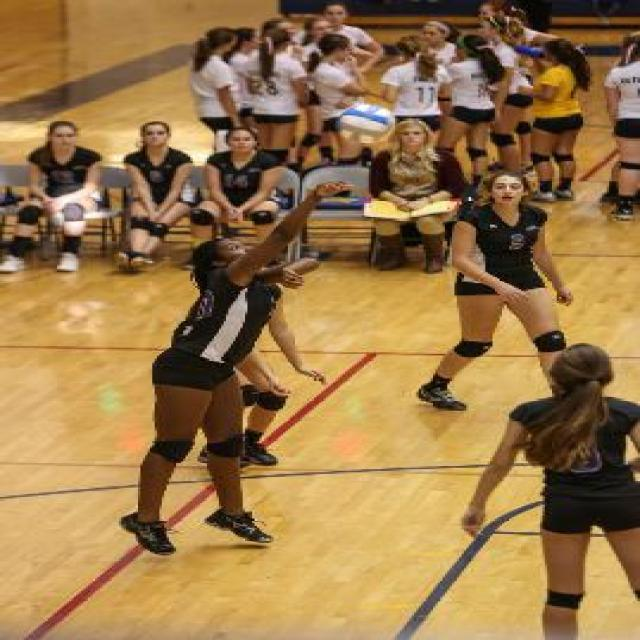volleyball: (338, 102, 396, 144)
